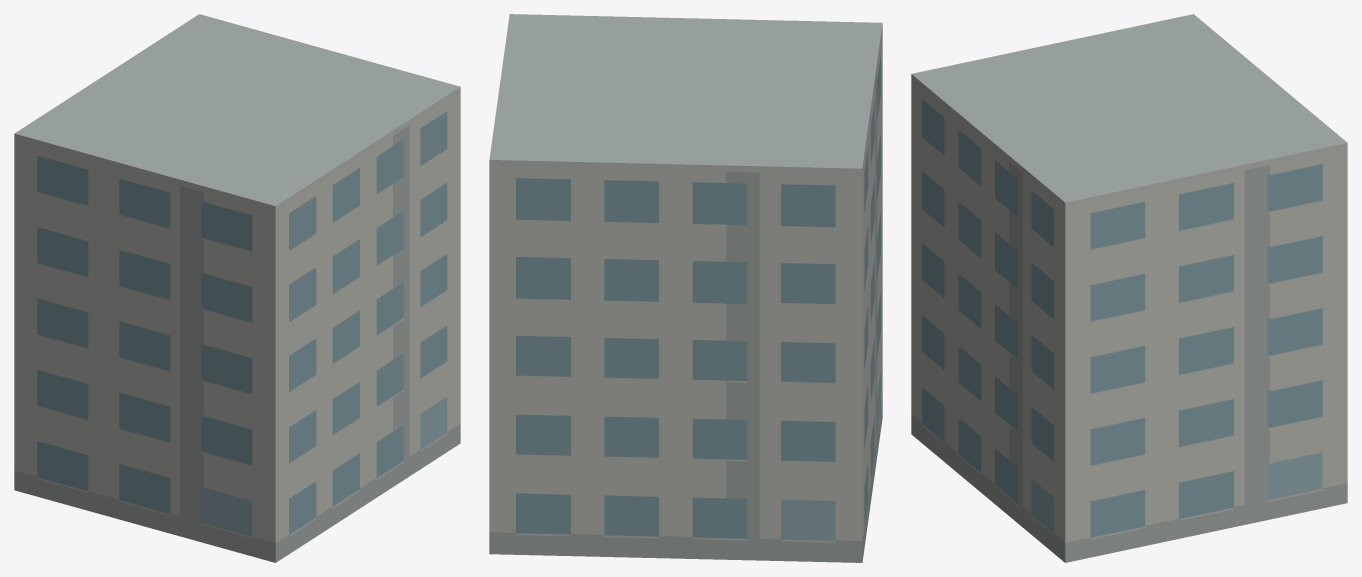
Rendered from survey-upis-32841702.glb.
3 views of the same model, side by side, from view 1: azimuth 30°, elevation 25°; view 2: azimuth 150°, elevation 25°; view 3: azimuth 270°, elevation 25° (orthographic). The views are drawn at different scales.
Parts seen in each view (by area): view 1: survey-upis-32841702.tmp; view 2: survey-upis-32841702.tmp; view 3: survey-upis-32841702.tmp.
Part boxes in pixels (bbox=[...]): survey-upis-32841702.tmp: bbox=[14, 14, 460, 562]; survey-upis-32841702.tmp: bbox=[489, 14, 882, 562]; survey-upis-32841702.tmp: bbox=[911, 14, 1347, 562].
Size of the model in its own units: 17.13 by 15.25 by 16.75.
